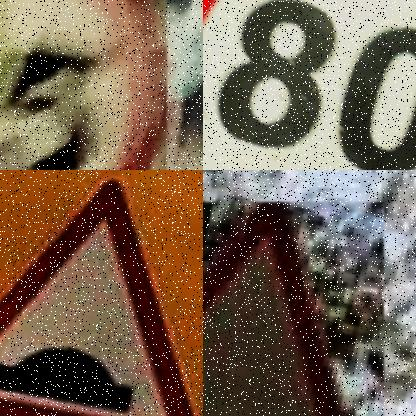Speed Breaker Ahead: (0, 170, 203, 416), (203, 202, 337, 416)
Speed Limit -80 kmph-: (203, 0, 416, 170)
